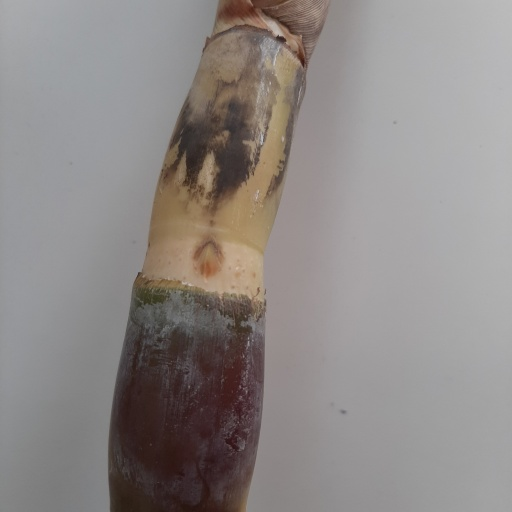Bud: (194, 238, 224, 277)
